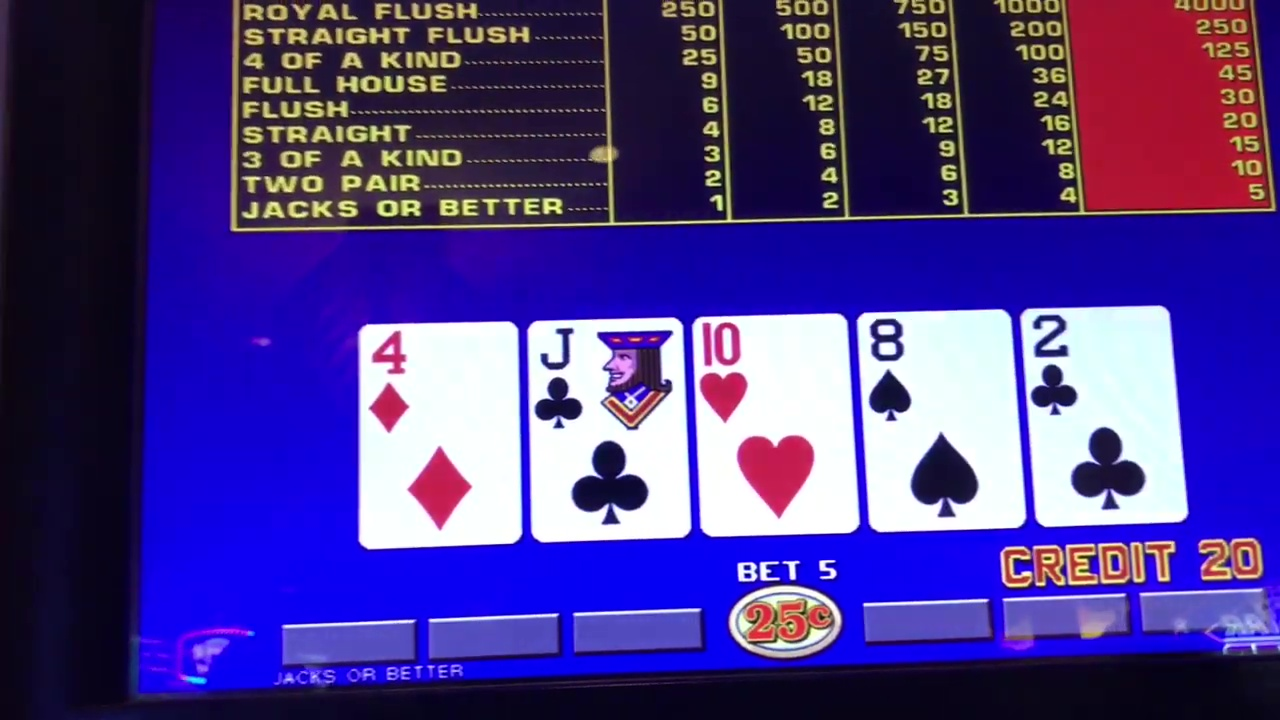C2: (1032, 308, 1171, 414)
CJ: (536, 316, 681, 425)
D4: (365, 325, 510, 434)
HT: (698, 315, 848, 423)
S8: (869, 310, 1013, 423)
